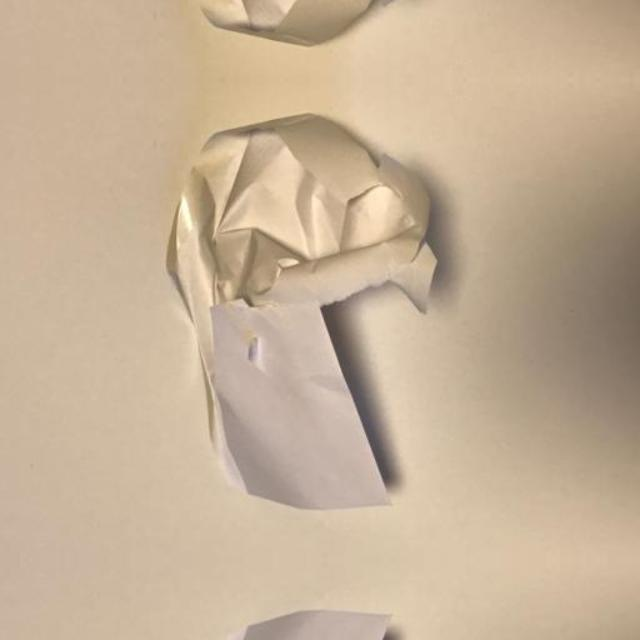paper: (134, 100, 490, 528), (134, 0, 489, 60), (134, 591, 489, 640)
